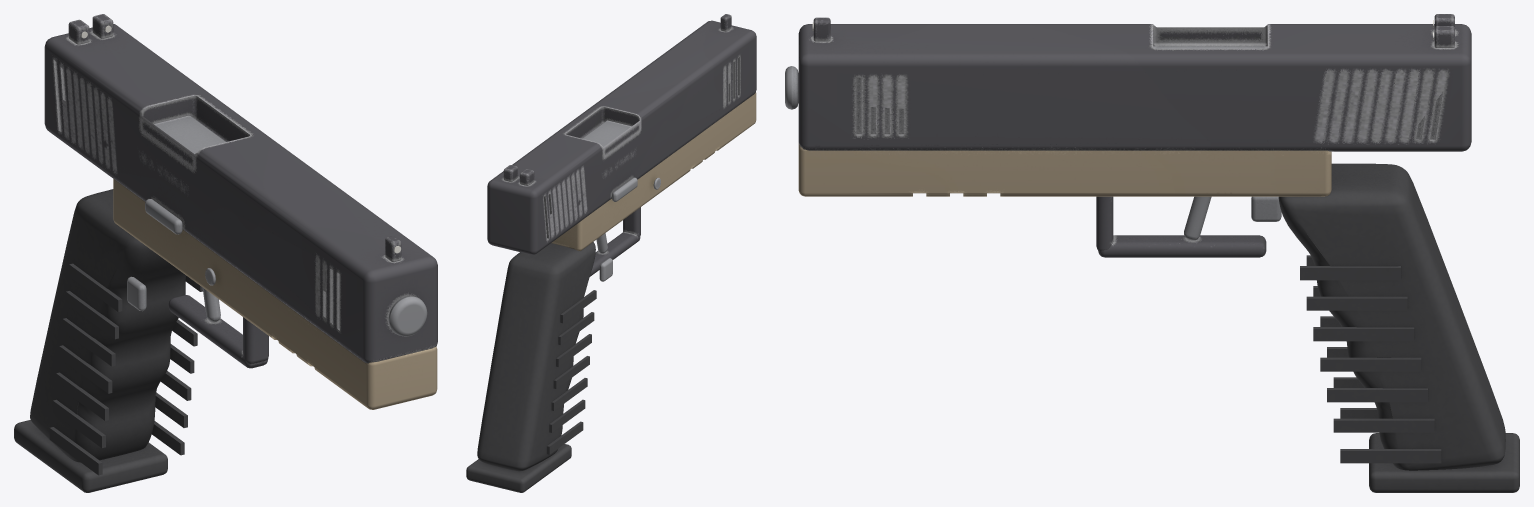
File: fiveseven.fbx
3 renders of one model, left to right at view 1: azimuth 30°, elevation 25°; view 2: azimuth 150°, elevation 25°; view 3: azimuth 270°, elevation 25°, orthographic. The views are drawn at different scales.
Parts seen in each view (by area): view 1: fiveseven; view 2: fiveseven; view 3: fiveseven.
Boxes of the visible parts, x1,y1,x2,y2 form: fiveseven: (14, 14, 437, 492); fiveseven: (466, 14, 756, 492); fiveseven: (785, 14, 1519, 492).
Size of the model in its own units: 0.0311 by 0.149 by 0.2183.
